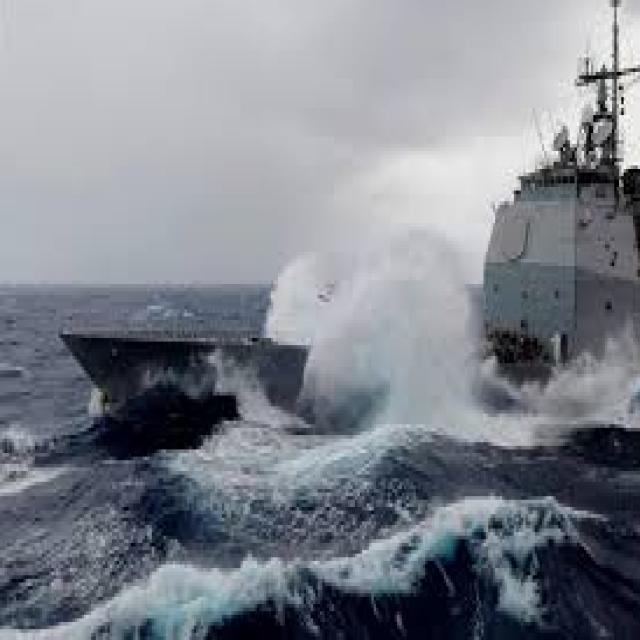navalvessels: (63, 14, 633, 456)
